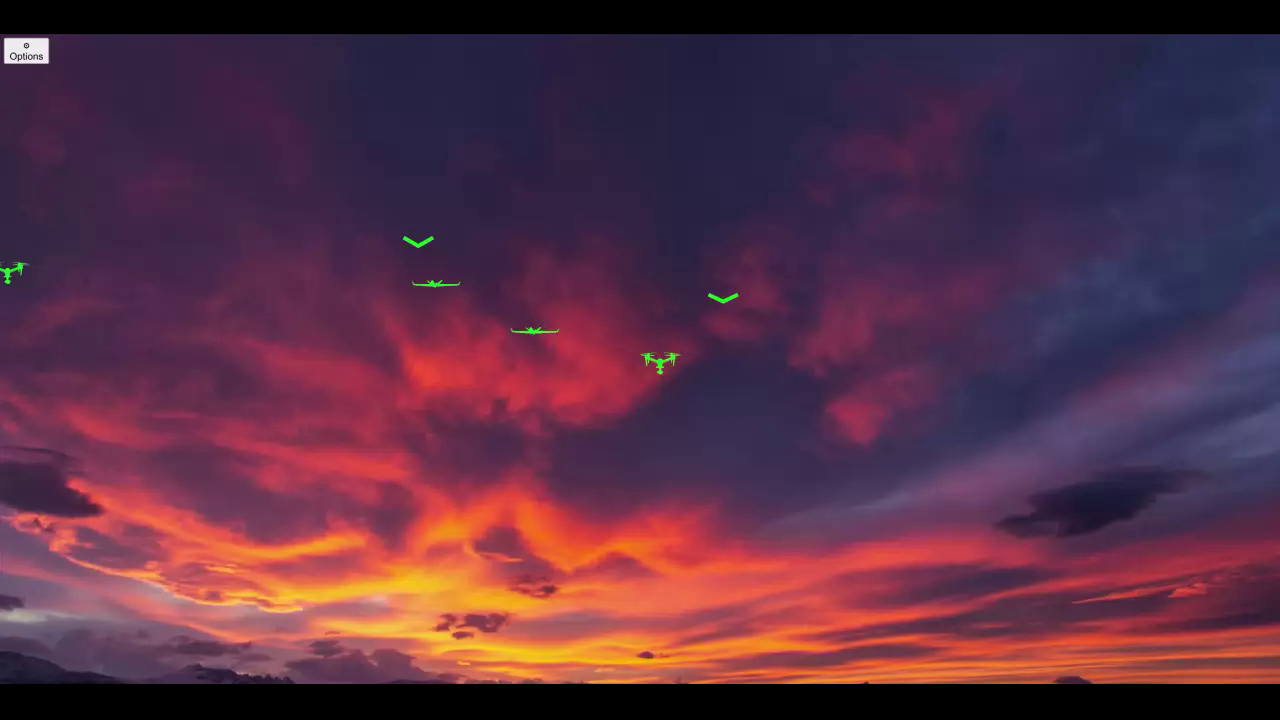Bird: (696, 284, 758, 322), (394, 227, 445, 268)
Drone: (502, 309, 571, 352), (400, 266, 470, 302)
Quadcopter: (629, 340, 690, 384)
